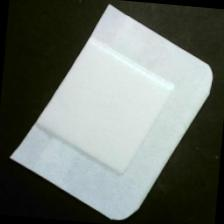Cut: (4, 1, 222, 224)
